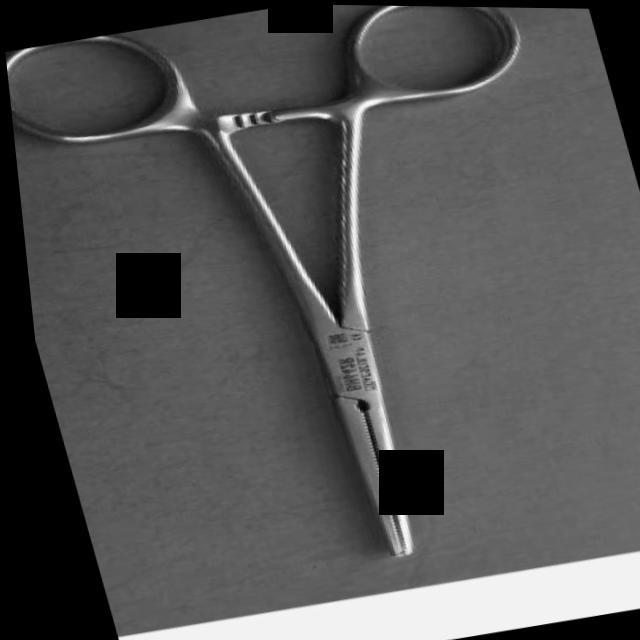Kocher Forceps: (0, 0, 640, 608)
